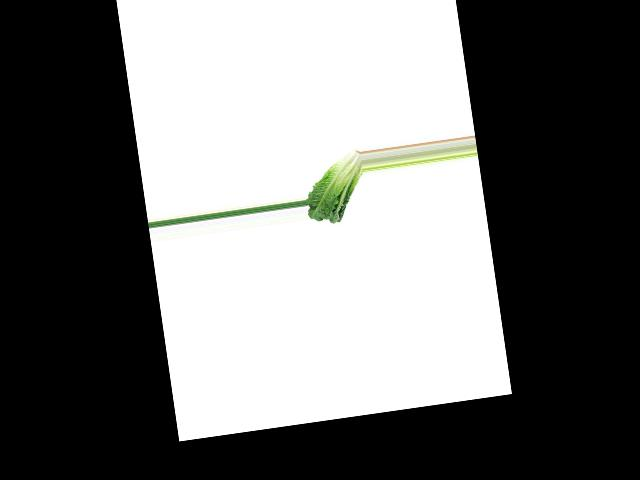lettuce: (300, 149, 369, 227)
